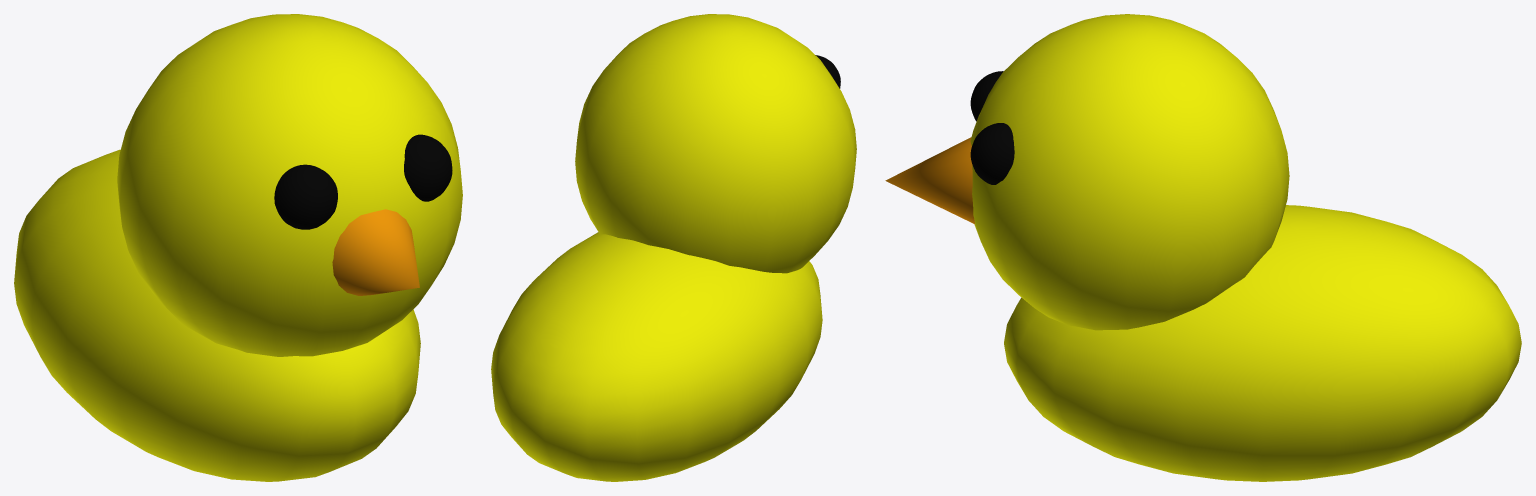
The model's file is duck.fbx.
The picture shows the model from 3 angles, left to right: view 1: azimuth 30°, elevation 25°; view 2: azimuth 150°, elevation 25°; view 3: azimuth 270°, elevation 25°; orthographic projection. The views are drawn at different scales.
Visible parts, largest first — view 1: pasted__pSphere3; view 2: pasted__pSphere3; view 3: pasted__pSphere3.
Part boxes in pixels (box(x1,y1,x2,y2)): pasted__pSphere3: box(14, 14, 462, 481); pasted__pSphere3: box(491, 14, 856, 481); pasted__pSphere3: box(885, 14, 1521, 481).
Bounding box in the file's own units: 2 × 2.96 × 3.93.
